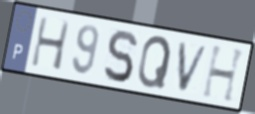9: (70, 24, 101, 77)
H: (200, 44, 248, 105), (29, 14, 72, 73)
Q: (136, 34, 174, 90)
S: (102, 28, 139, 84)
V: (178, 40, 212, 94)
